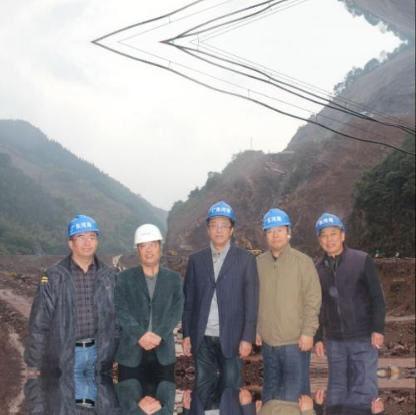Safety Helmet: (61, 209, 104, 269), (129, 218, 166, 276), (201, 199, 240, 253), (259, 205, 299, 256), (309, 207, 347, 253)
